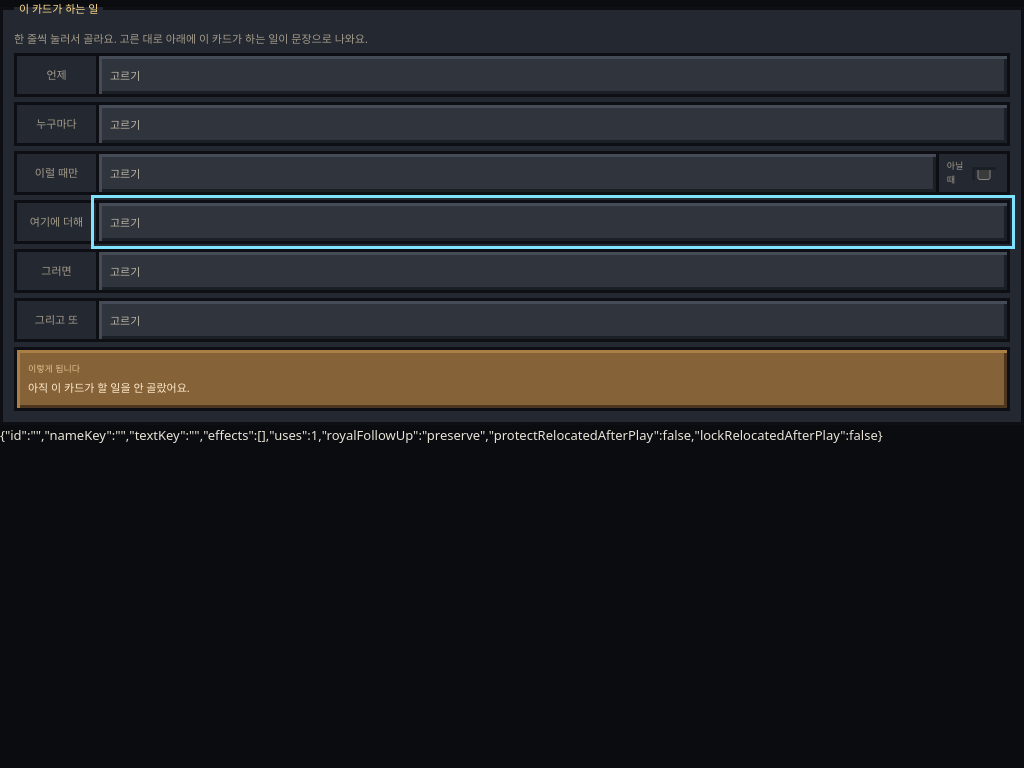
Scenario: Phase 2 — the sentence grows the rows it needs › shows the join operator ONLY once a second condition exists
Click the button "고르기" next to "여기에 더해" at point(125, 222), box x1=96 y1=200 x2=1010 y2=244
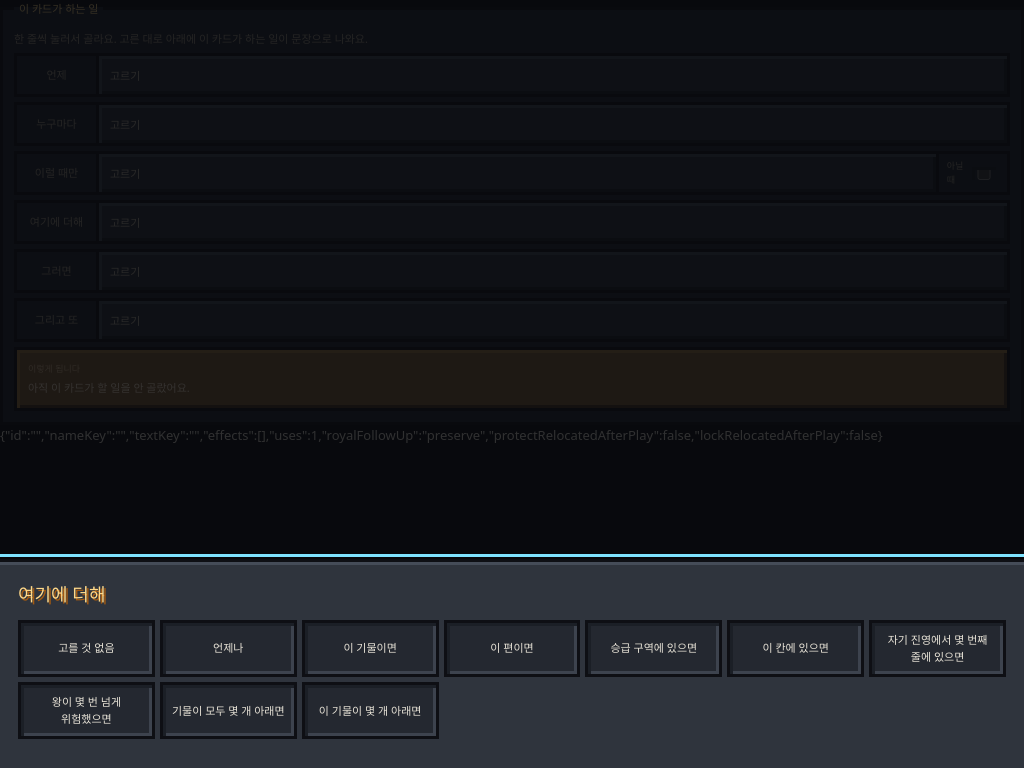
Click the button "자기 진영에서 몇 번째 줄에 있으면" at point(938, 648), box x1=869 y1=620 x2=1006 y2=677
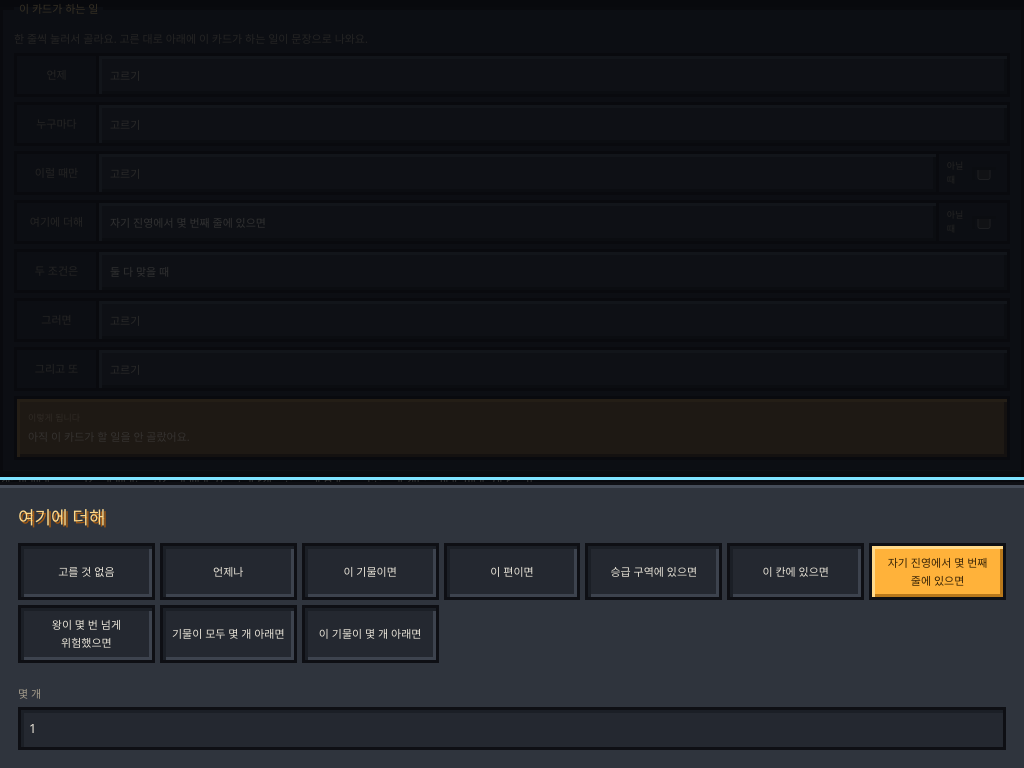
Now the button with test id "slot-op" is shown, box x1=96 y1=249 x2=1010 y2=293
